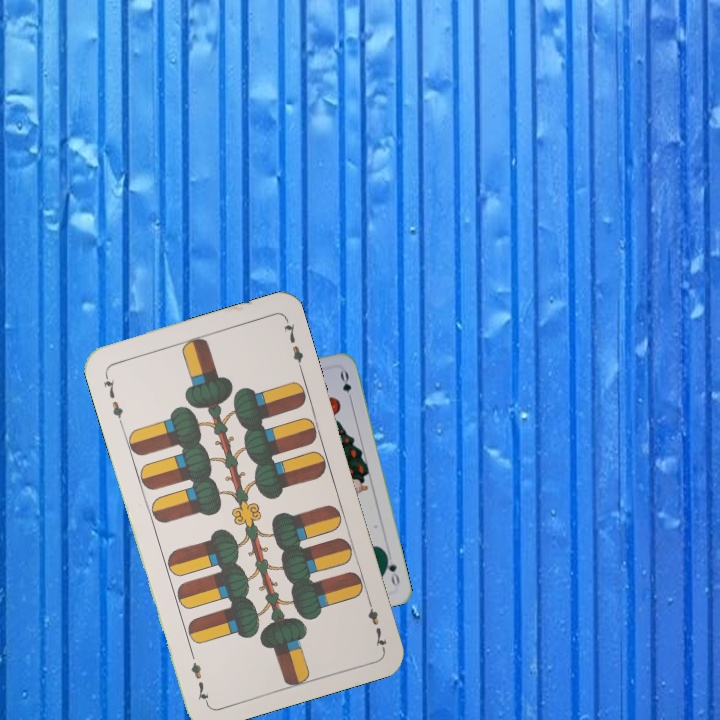E7: (99, 369, 126, 427), (363, 593, 390, 651)
GO: (381, 550, 402, 589)
